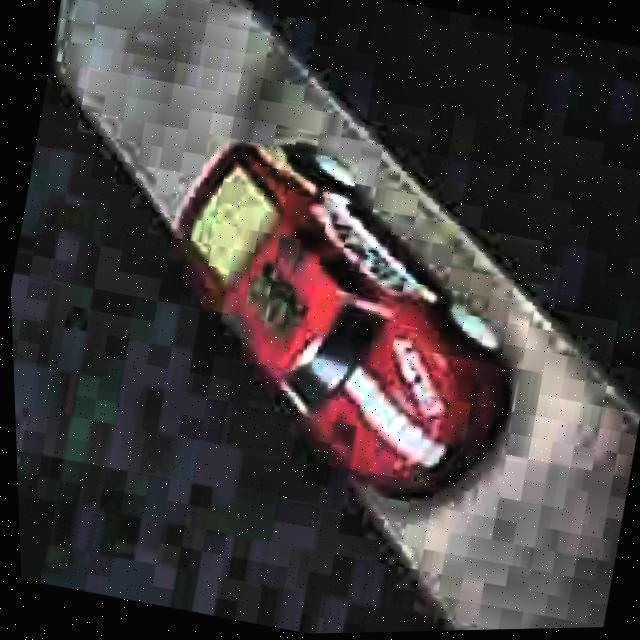car: (123, 111, 563, 528)
